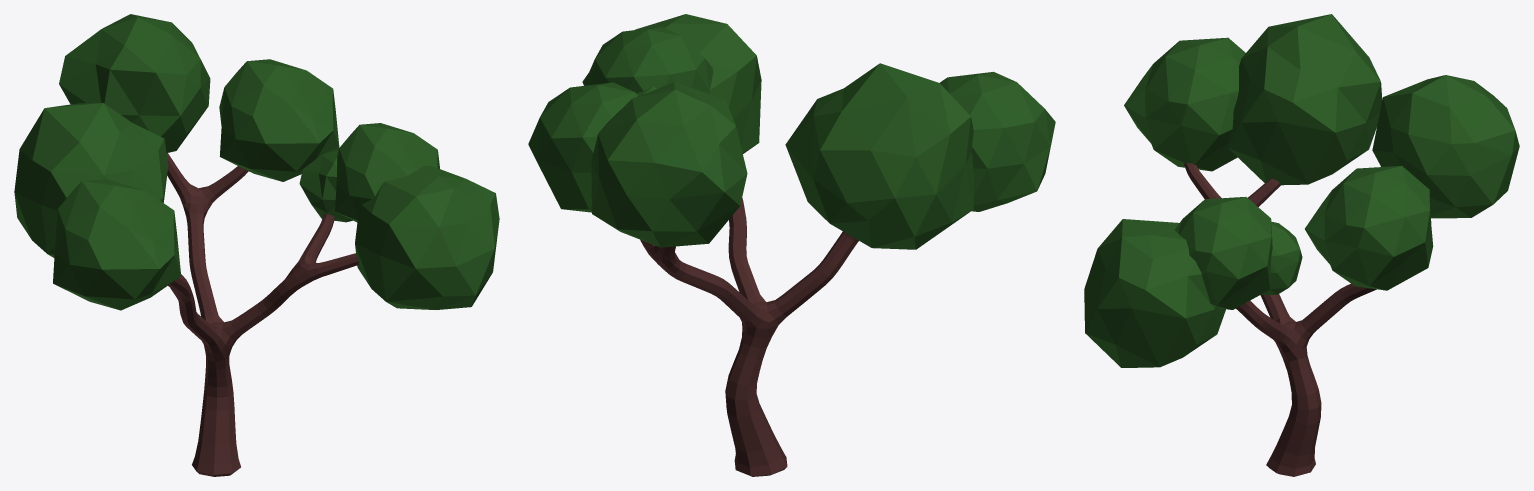
Rendered from DarkTree2.fbx.
3 renders of one model, left to right at view 1: azimuth 30°, elevation 25°; view 2: azimuth 150°, elevation 25°; view 3: azimuth 270°, elevation 25°, orthographic. The views are drawn at different scales.
Parts seen in each view (by area): view 1: Icosphere.004, Plane.003; view 2: Icosphere.004, Plane.003; view 3: Icosphere.004, Plane.003.
Boxes of the visible parts, bbox=[...] form: Icosphere.004: bbox=[14, 14, 499, 310]; Plane.003: bbox=[166, 153, 358, 476]; Icosphere.004: bbox=[528, 14, 1055, 249]; Plane.003: bbox=[640, 197, 858, 476]; Icosphere.004: bbox=[1084, 14, 1519, 367]; Plane.003: bbox=[1184, 163, 1376, 476].
Size of the model in its own units: 1124 by 1017 by 1020.
